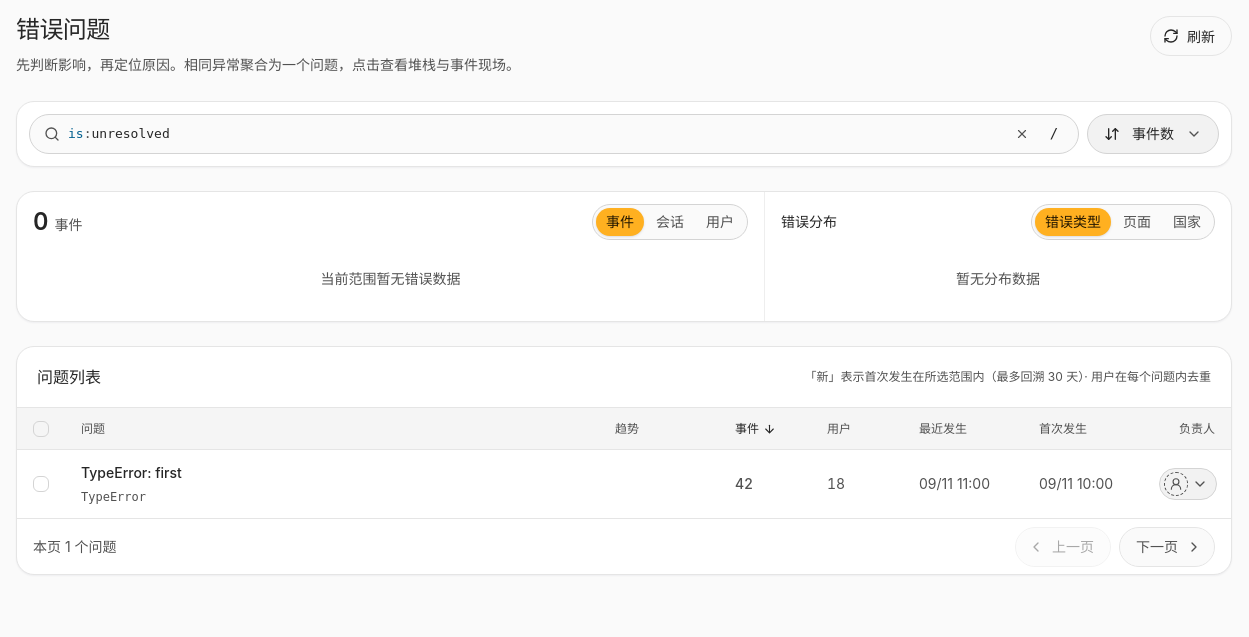
issues page states › paginates independently of browser history, including empty intermediate pages
Expected: the link "TypeError: first" is shown, [81,462,182,483]
Click the button "下一页" at (1167, 547), box [1119,527,1215,567]
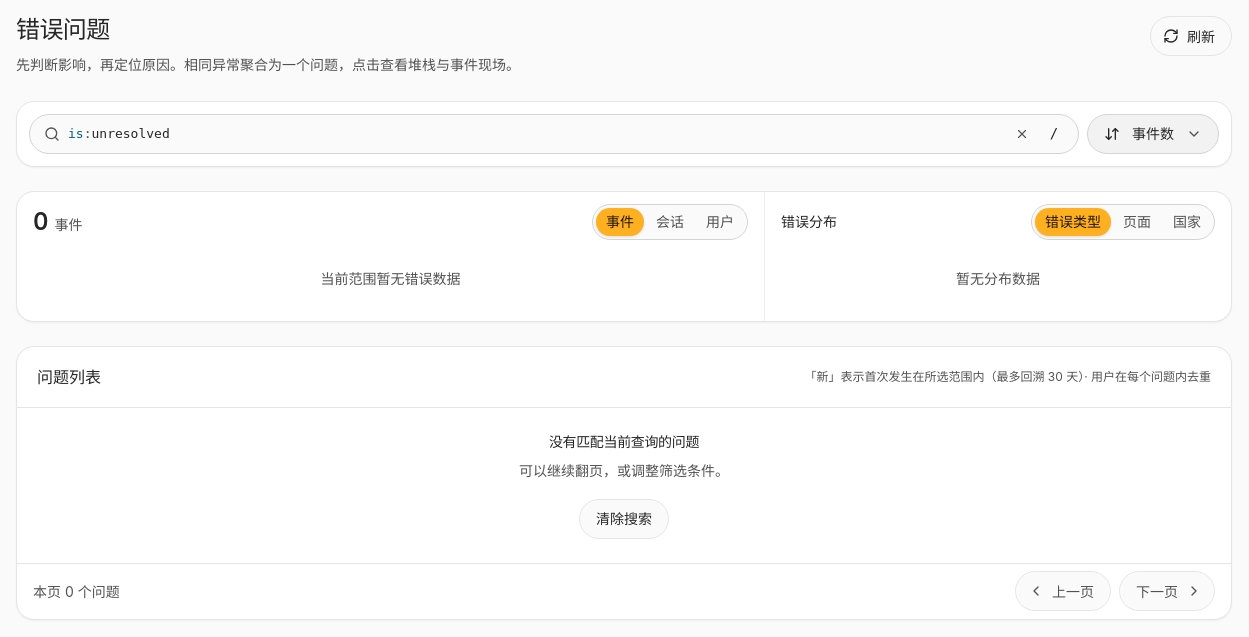
Expected: the text "没有匹配当前查询的问题" is shown, [549,432,699,452]
Click the button "下一页" at (1167, 591), box [1119,571,1215,611]
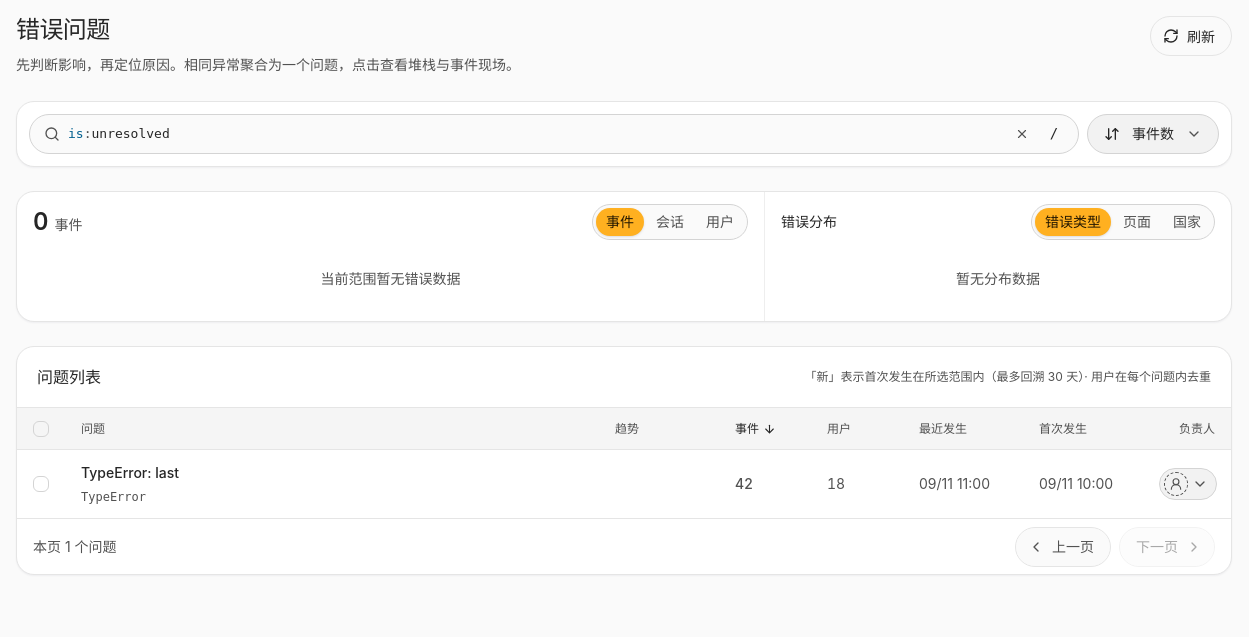
Expected: the link "TypeError: last" is shown, [81,462,179,483]
Click the button "上一页" at (1063, 547), box [1015,527,1111,567]
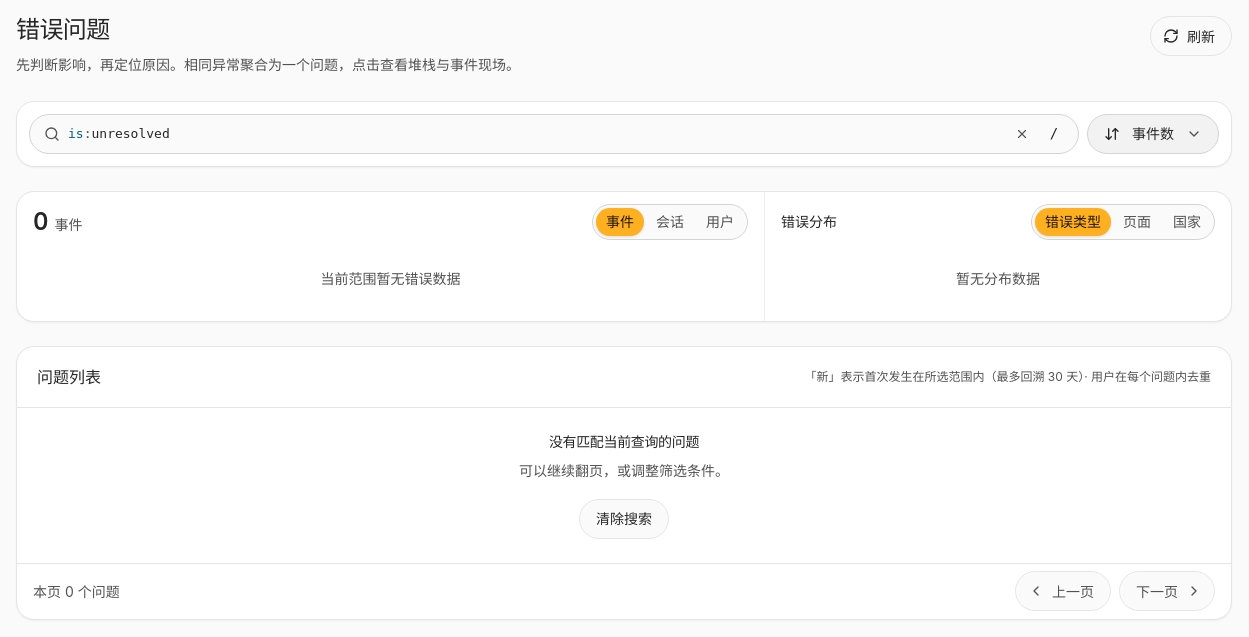
Expected: the button "上一页" is enabled
Expected: the text "没有匹配当前查询的问题" is shown, [549,432,699,452]
Click the button "上一页" at (1063, 591), box [1015,571,1111,611]
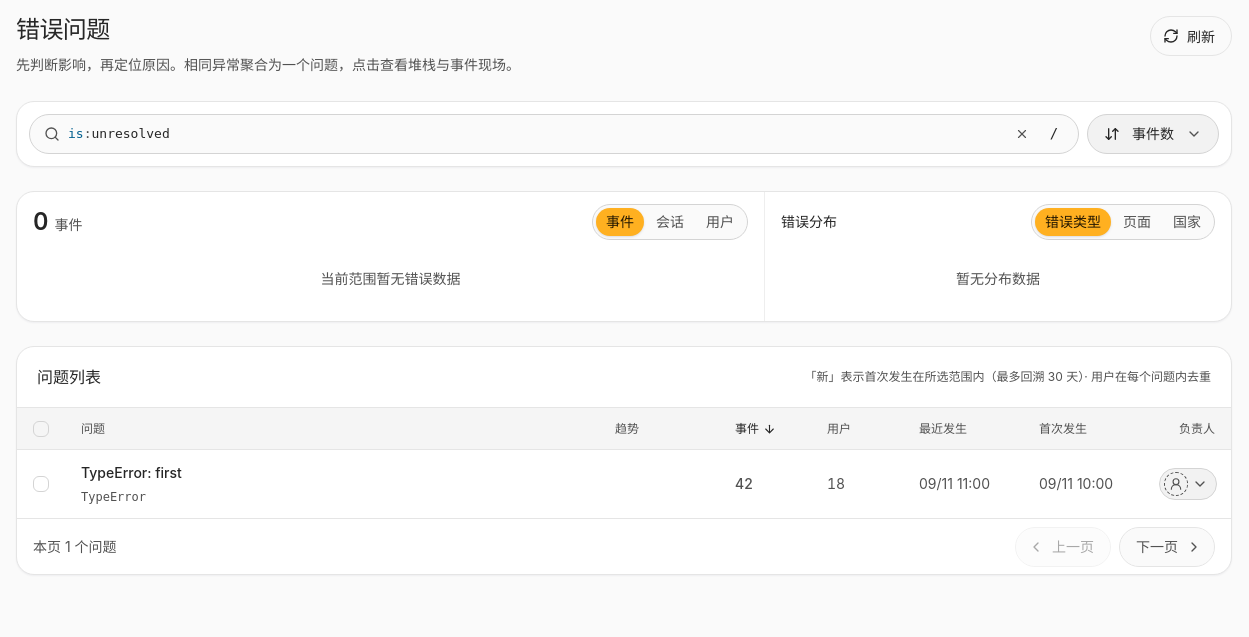
Expected: the link "TypeError: first" is shown, [81,462,182,483]
